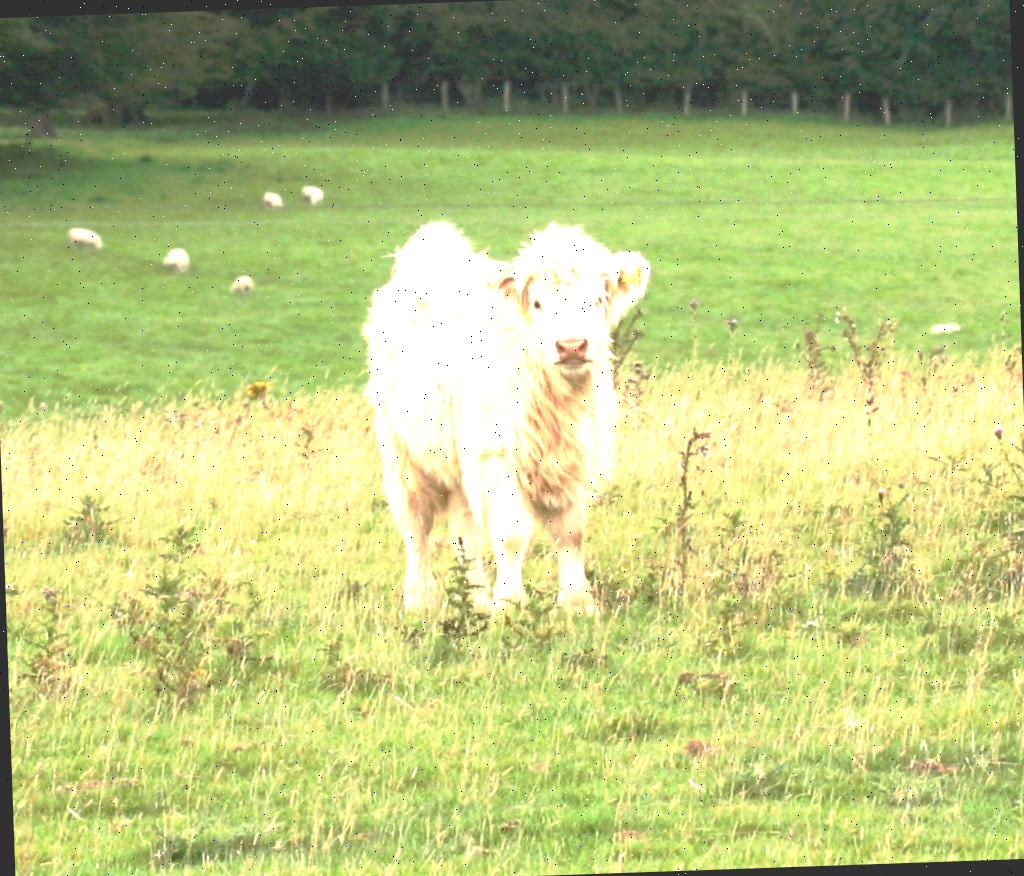Sheep: (356, 214, 662, 628), (64, 226, 102, 248), (300, 180, 326, 204), (162, 247, 187, 269), (226, 276, 252, 294), (263, 192, 281, 210)
